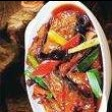hongshaodaiyu: (24, 0, 108, 112)
